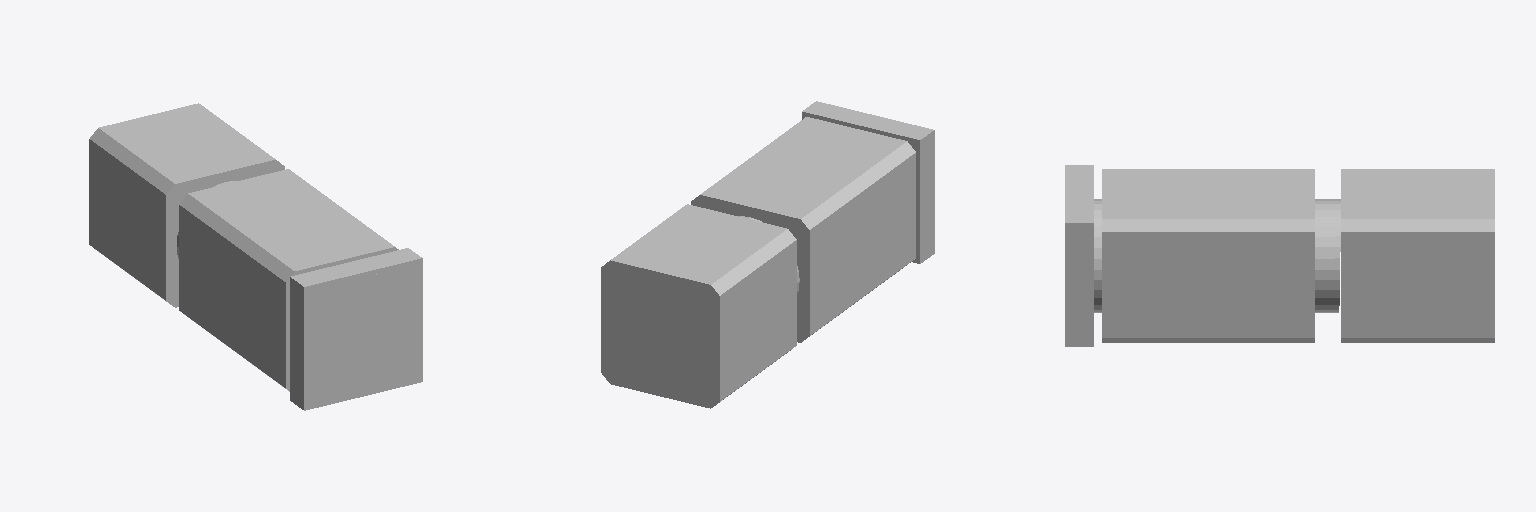
The model's file is linssi.obj.
3 views of the same model, side by side, from view 1: azimuth 30°, elevation 25°; view 2: azimuth 150°, elevation 25°; view 3: azimuth 270°, elevation 25° (orthographic).
Visible parts, largest first — view 1: Cube_Cube.003; view 2: Cube_Cube.003; view 3: Cube_Cube.003.
Part boxes in pixels (x1,y1,x2,y2): Cube_Cube.003: (89, 103, 422, 410); Cube_Cube.003: (601, 101, 934, 408); Cube_Cube.003: (1065, 165, 1494, 346).
Bounding box in the file's own units: 3.36 × 3.36 × 10.55.